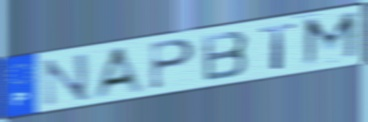A: (90, 44, 150, 100)
B: (200, 29, 251, 84)
M: (300, 9, 362, 70)
N: (41, 51, 92, 109)
P: (149, 37, 198, 92)
T: (258, 21, 300, 72)
